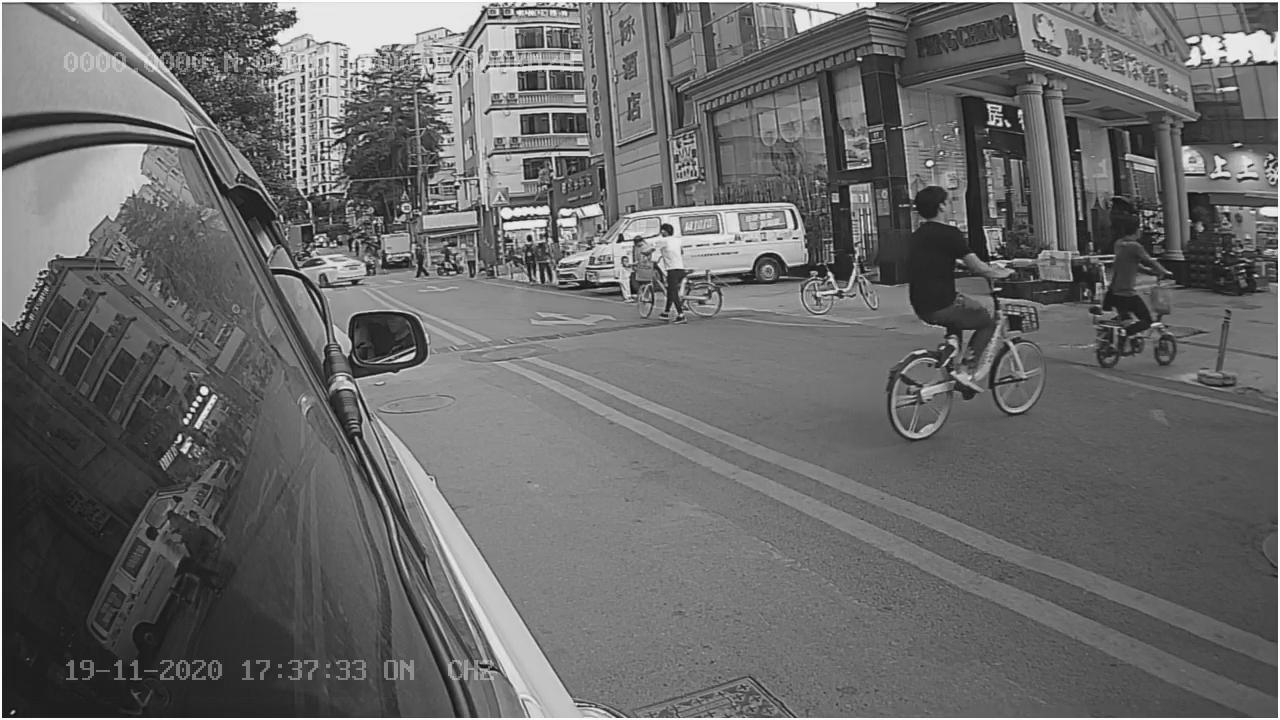person: (899, 178, 991, 333)
